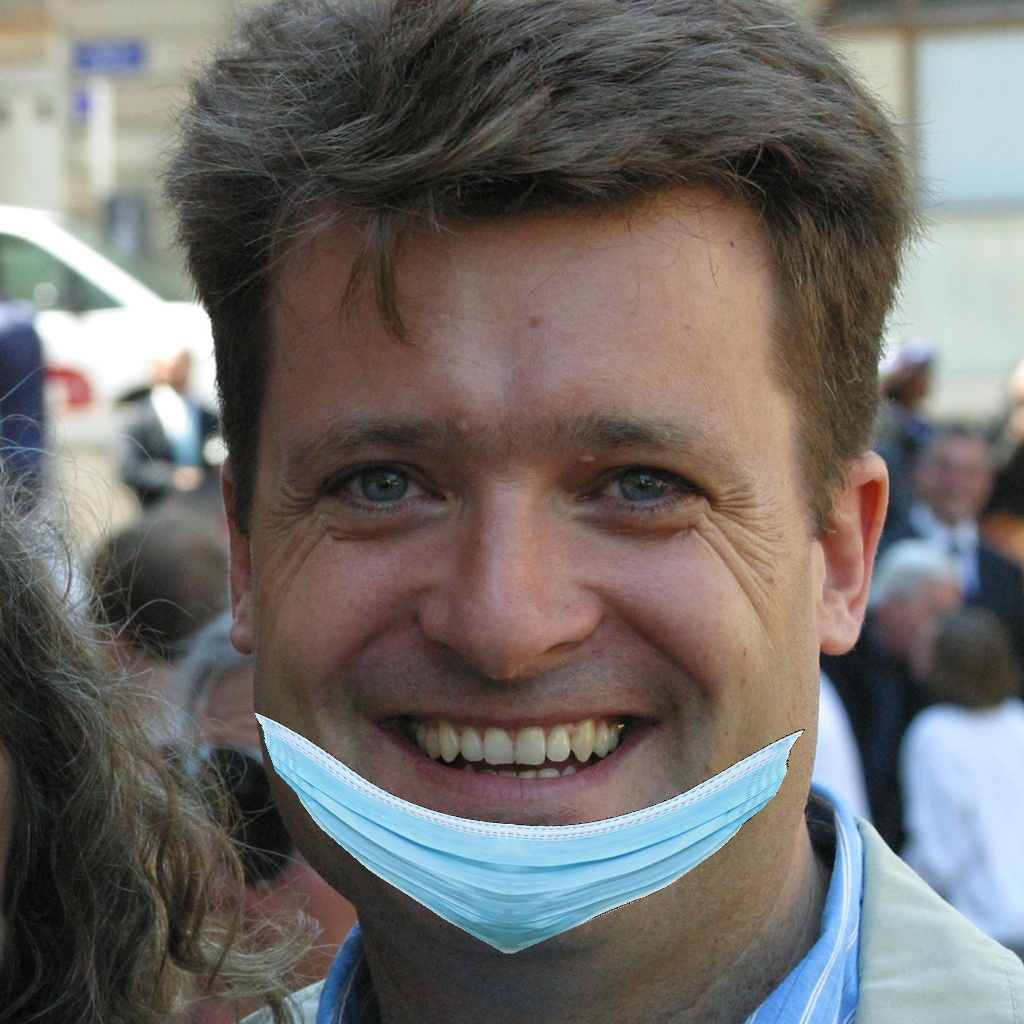mascarilla_mal_puesta: (182, 325, 884, 1000)
